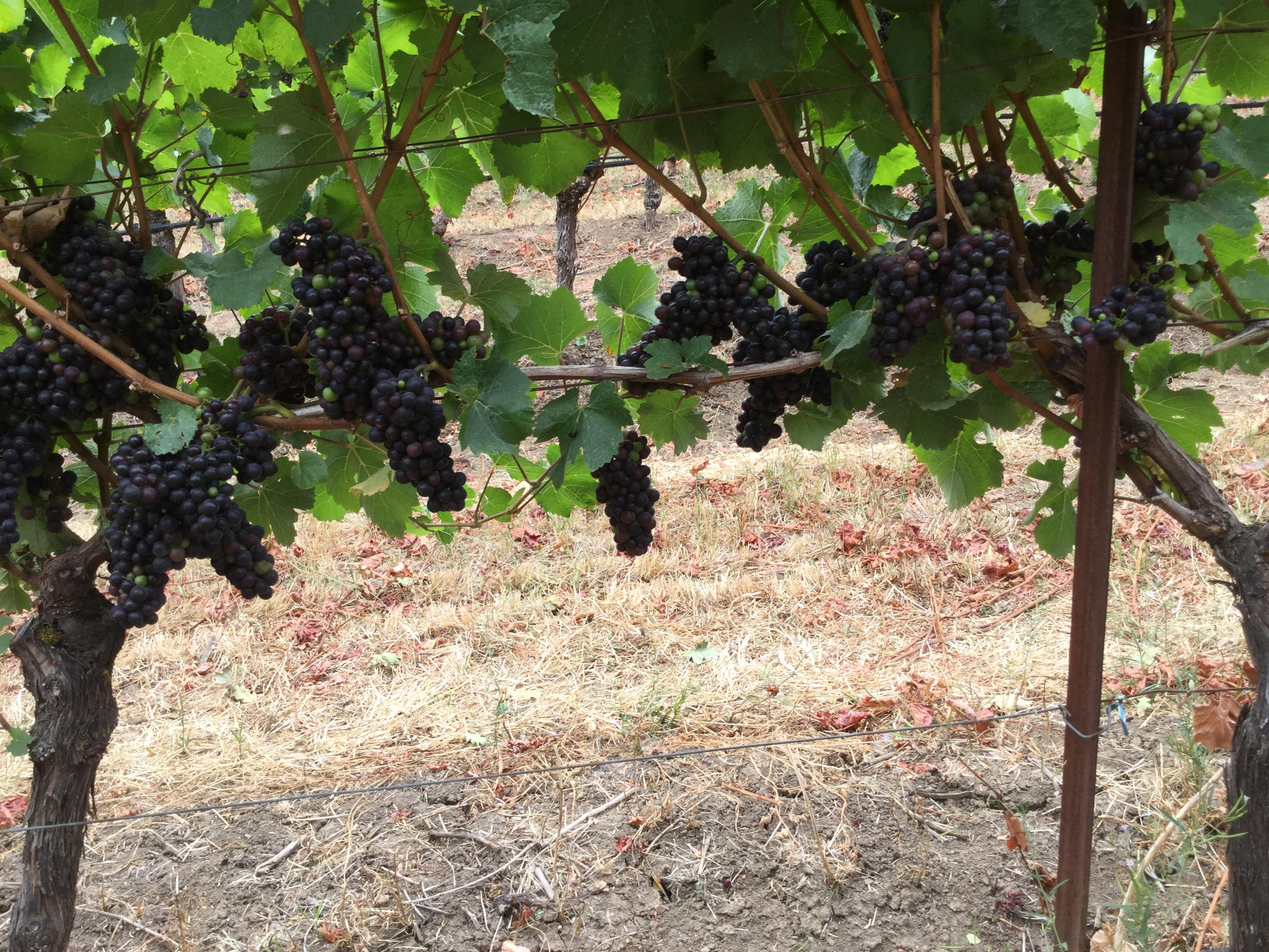leaf: (550, 0, 716, 105), (250, 88, 339, 226), (484, 0, 568, 117), (534, 382, 632, 469), (1164, 175, 1260, 262), (451, 351, 532, 453), (14, 93, 105, 182), (911, 421, 1003, 508), (495, 286, 594, 365), (706, 0, 797, 81), (493, 444, 595, 516), (233, 459, 315, 544), (490, 130, 597, 195), (187, 241, 285, 309), (714, 179, 787, 270), (377, 168, 443, 265), (1203, 0, 1268, 96), (593, 256, 657, 353), (1138, 387, 1223, 457), (875, 387, 966, 451), (407, 146, 484, 217), (162, 28, 238, 97), (1026, 459, 1077, 558), (14, 486, 80, 555), (466, 262, 532, 331), (637, 390, 708, 454), (322, 439, 384, 511), (1208, 107, 1268, 177), (592, 255, 657, 319), (645, 335, 728, 379), (822, 300, 872, 368), (783, 401, 850, 451), (84, 43, 138, 104), (362, 480, 418, 537), (143, 397, 198, 453), (199, 89, 259, 138), (302, 0, 364, 47), (595, 301, 651, 353), (190, 0, 253, 45), (970, 387, 1034, 430), (135, 0, 193, 45), (199, 335, 241, 394), (428, 247, 471, 302), (398, 262, 439, 316), (349, 460, 393, 498), (479, 486, 522, 521), (290, 449, 327, 488), (0, 570, 31, 615), (310, 484, 347, 521), (1013, 379, 1055, 405), (1040, 420, 1072, 449), (5, 726, 33, 756), (353, 194, 359, 219), (1061, 413, 1073, 420), (516, 490, 523, 497), (413, 192, 417, 201), (446, 149, 465, 150), (188, 255, 194, 258), (195, 252, 202, 254), (182, 259, 185, 262), (266, 18, 273, 19), (493, 510, 496, 511), (252, 212, 253, 214), (81, 34, 82, 35), (552, 474, 553, 474), (442, 289, 443, 289), (278, 18, 280, 18)
